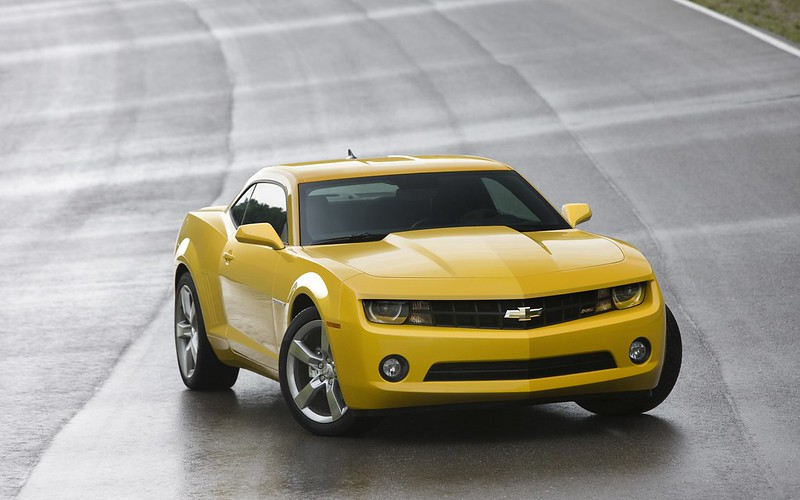car: (169, 154, 689, 432)
